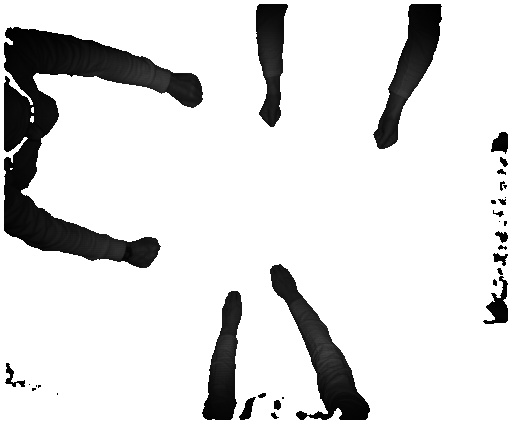fist: (172, 68, 207, 111), (130, 232, 167, 271), (368, 119, 401, 151), (256, 97, 287, 127)
hand: (264, 264, 301, 304), (216, 288, 247, 330)
